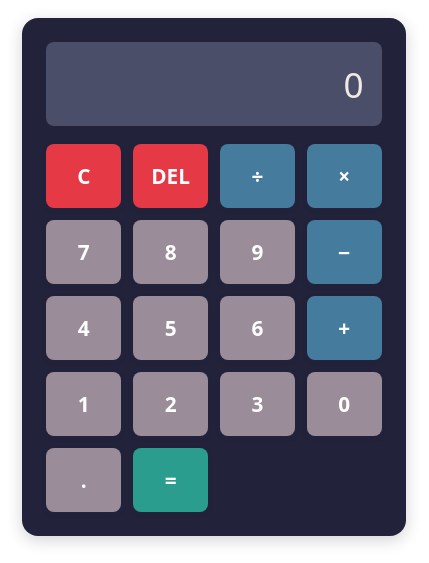
Calculator UI › number buttons update display
This screenshot has width=429, height=563.
Click the button "1".
click(84, 404)  # box [46,372,121,436]
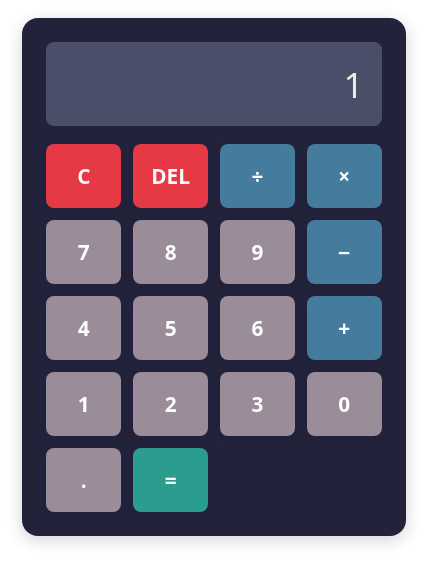
Click the button "2".
click(171, 404)  # box [133,372,208,436]
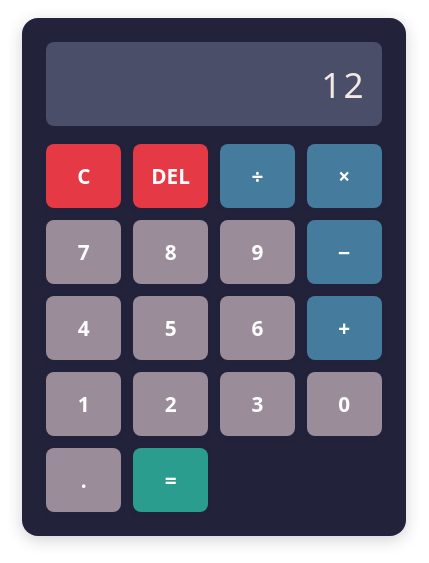
Now the text "12" is shown, box [46,42,382,126]
